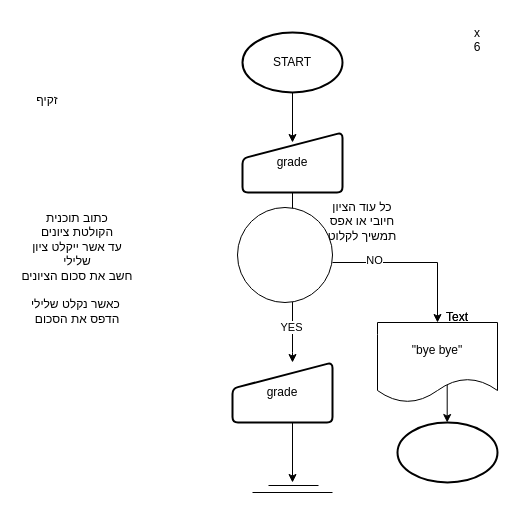
Some shapes in this 515 by 511 pixel diagram are drawn without their labels. The shapes that lost their labels are listed below. From the top down, each one's centre as x and y in pixels, then its label:
At pixel 284 254: "grade >= 0".
At pixel 447 452: "STOP".
